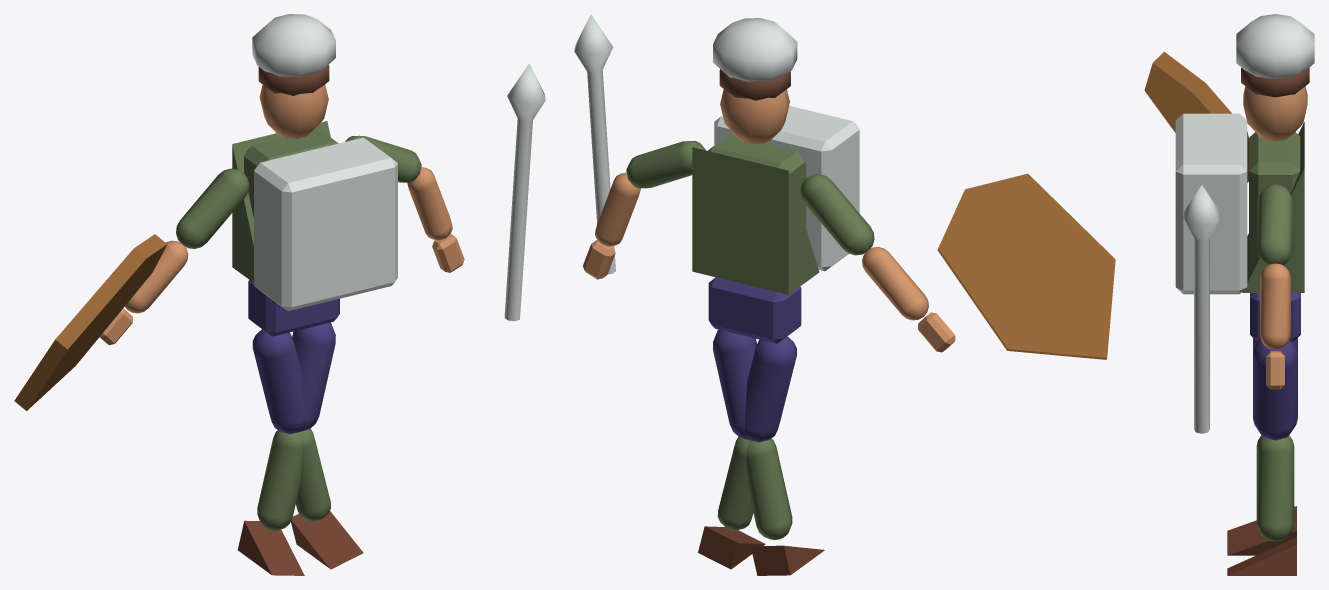
File: adventurer.rustic.glb
The picture shows the model from 3 angles, left to right: view 1: azimuth 30°, elevation 25°; view 2: azimuth 150°, elevation 25°; view 3: azimuth 270°, elevation 25°; orthographic projection.
Parts seen in each view (by area): view 1: accessory.body, accessory.off-hand, accessory.main-hand, accessory.head, thigh.left, shin.right, upper-arm.left, thigh.right, head, pelvis, foot.left, tunic (+8 smaller); view 2: accessory.off-hand, tunic, accessory.body, pelvis, accessory.head, thigh.left, accessory.main-hand, shin.right, upper-arm.left, thigh.right, head, forearm.left (+9 smaller); view 3: accessory.body, accessory.main-hand, accessory.head, shin.left, accessory.off-hand, thigh.right, torso, upper-arm.right, head, forearm.right, tunic, foot.left (+4 smaller).
Boxes of the visible parts, box(x1,y1,x2,y2) form: accessory.body: box(254, 137, 397, 311); accessory.off-hand: box(14, 234, 167, 410); accessory.main-hand: box(504, 63, 545, 321); accessory.head: box(252, 14, 335, 77); thigh.left: box(252, 329, 304, 433); shin.right: box(257, 430, 302, 530); upper-arm.left: box(176, 168, 249, 248); thigh.right: box(292, 322, 335, 431); head: box(259, 84, 328, 138); pelvis: box(248, 280, 339, 336); foot.left: box(291, 511, 363, 569); tunic: box(232, 121, 330, 282); accessory.off-hand: box(937, 173, 1115, 359); tunic: box(692, 147, 819, 294); accessory.body: box(714, 105, 859, 271); pelvis: box(708, 277, 801, 343); accessory.head: box(713, 18, 797, 81); thigh.left: box(744, 336, 796, 442); accessory.main-hand: box(574, 14, 615, 274); shin.right: box(746, 438, 792, 540); upper-arm.left: box(800, 174, 874, 255); thigh.right: box(713, 329, 756, 439); head: box(720, 89, 789, 143); forearm.left: box(862, 247, 928, 320); accessory.body: box(1175, 113, 1247, 294); accessory.main-hand: box(1182, 185, 1221, 433); accessory.head: box(1236, 14, 1314, 79); shin.left: box(1256, 436, 1294, 541); accessory.off-hand: box(1144, 51, 1248, 182); thigh.right: box(1253, 341, 1297, 440); torso: box(1249, 132, 1300, 270); upper-arm.right: box(1257, 184, 1293, 265); head: box(1243, 86, 1307, 141); forearm.right: box(1260, 263, 1290, 349); tunic: box(1242, 122, 1304, 292); foot.left: box(1227, 537, 1296, 575).
Bounding box in the file's own units: 3.28 × 3.18 × 0.9041.
